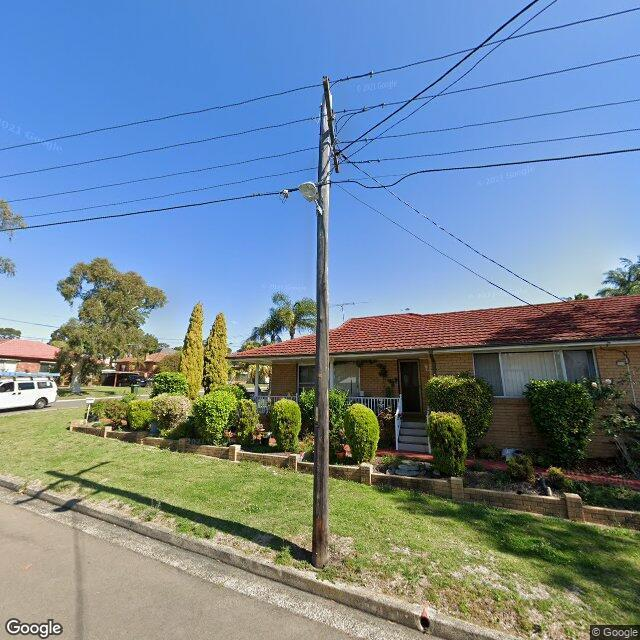crossarm: (323, 76, 341, 174)
streetlight: (298, 181, 324, 215)
timber-pole: (311, 90, 331, 569)
